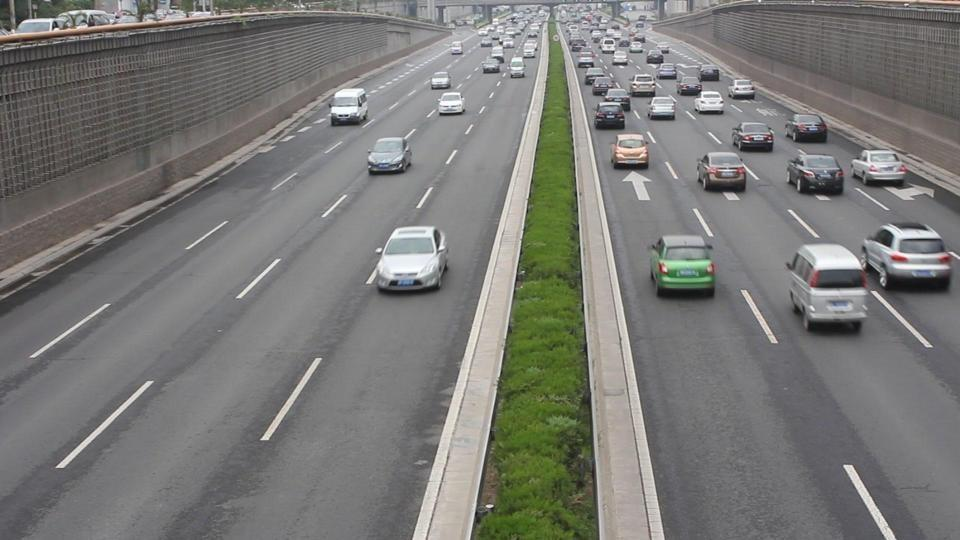car: (784, 242, 868, 333), (861, 221, 955, 292), (372, 225, 451, 293), (782, 151, 905, 189), (647, 234, 717, 297), (786, 154, 847, 197), (696, 149, 748, 192), (849, 149, 909, 185), (366, 136, 414, 175), (330, 88, 370, 126), (610, 132, 651, 169), (730, 122, 776, 152), (784, 113, 828, 143), (56, 10, 120, 28), (594, 101, 628, 130), (14, 18, 67, 35), (693, 89, 725, 115), (646, 95, 678, 121), (629, 73, 658, 96), (436, 93, 465, 115), (480, 56, 503, 74), (430, 72, 449, 90), (509, 57, 525, 78)
